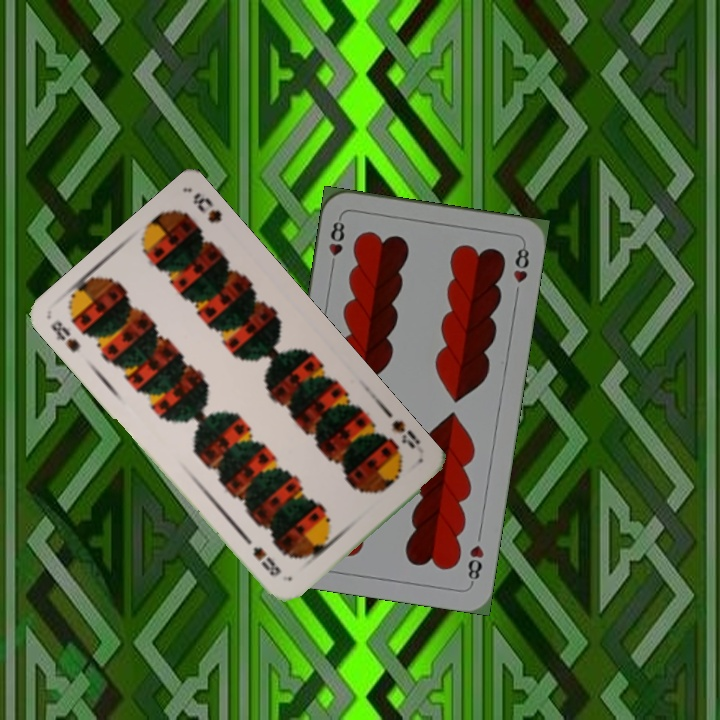H8: (324, 213, 347, 272), (464, 541, 487, 587)
S8: (46, 316, 83, 355), (387, 416, 423, 451)
